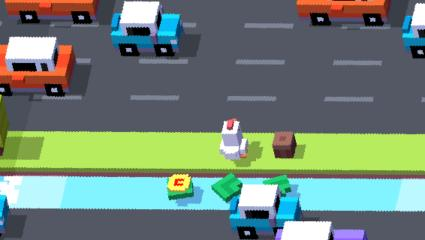hen: (218, 118, 249, 161)
obstacle: (5, 36, 75, 96), (227, 185, 300, 239), (112, 2, 183, 57), (296, 0, 392, 26), (3, 0, 100, 23), (282, 222, 369, 240), (403, 3, 425, 59), (272, 132, 297, 159), (0, 194, 10, 233)
timber: (211, 173, 240, 200), (165, 175, 194, 201), (265, 176, 294, 196)
